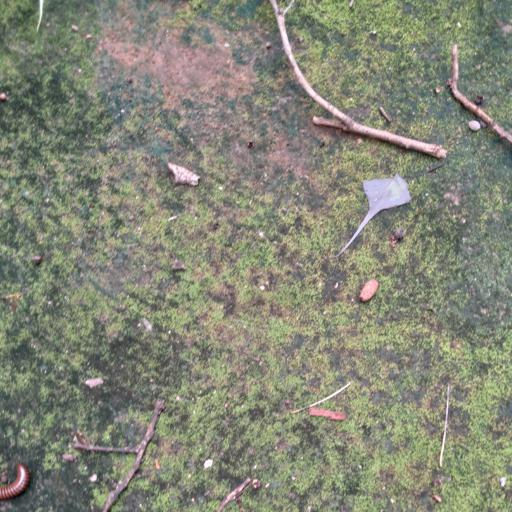algae: (2, 3, 512, 512)
